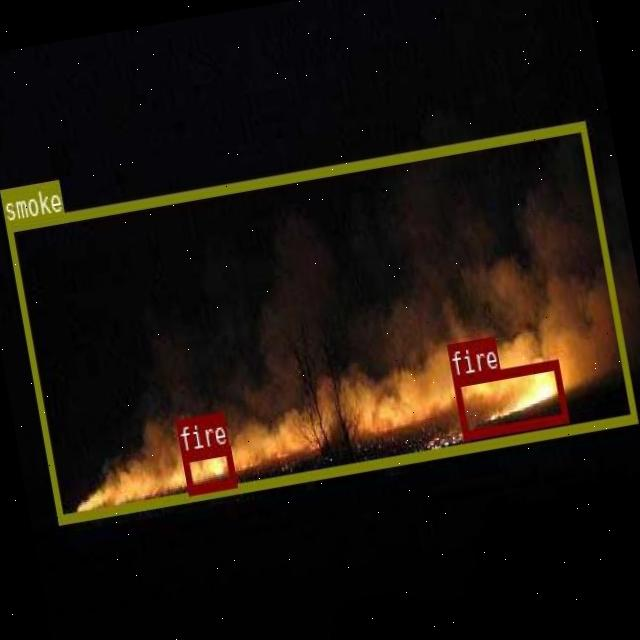fire: (451, 358, 567, 440), (180, 445, 235, 493)
smoke: (4, 120, 636, 522)
